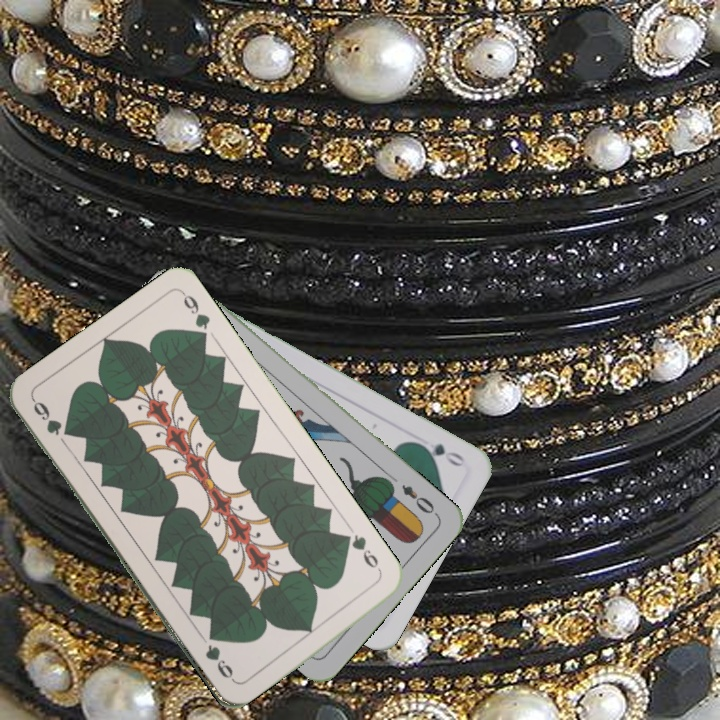EO: (397, 480, 441, 519)
G9: (339, 530, 385, 578), (28, 395, 65, 438)
GO: (412, 438, 468, 470)
